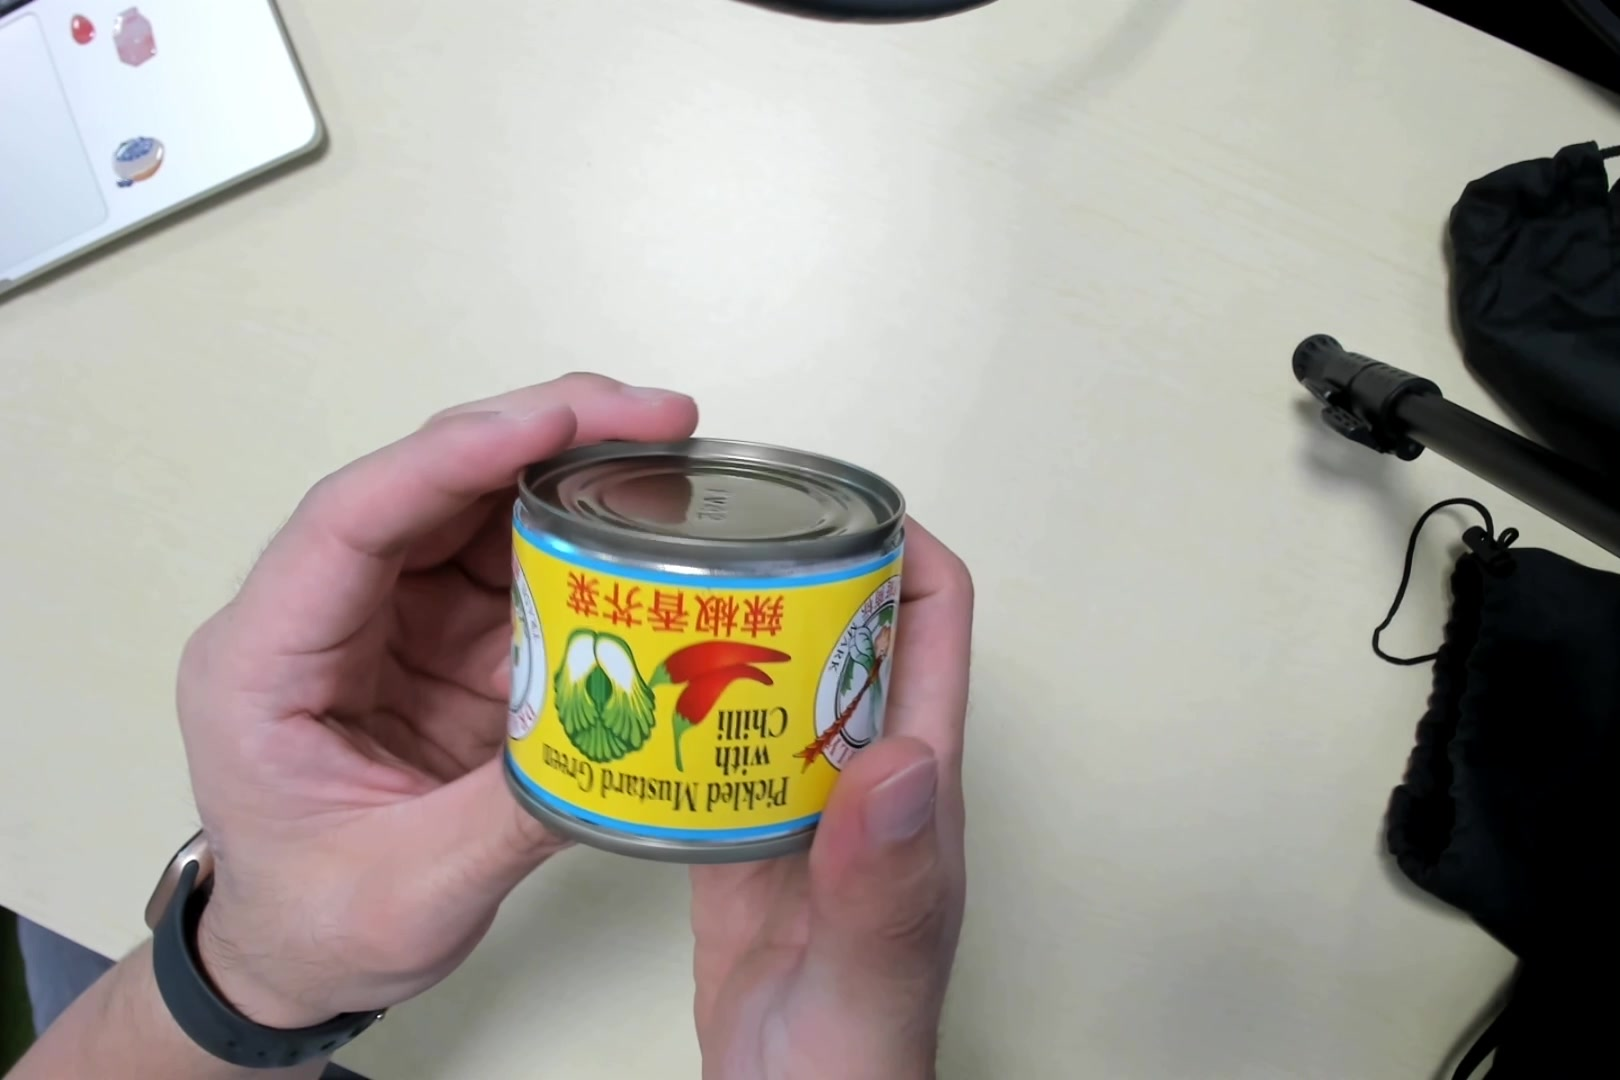CannedFruitsCocktail_0-99g_Halal_NonHealthy: (511, 450, 906, 837)
